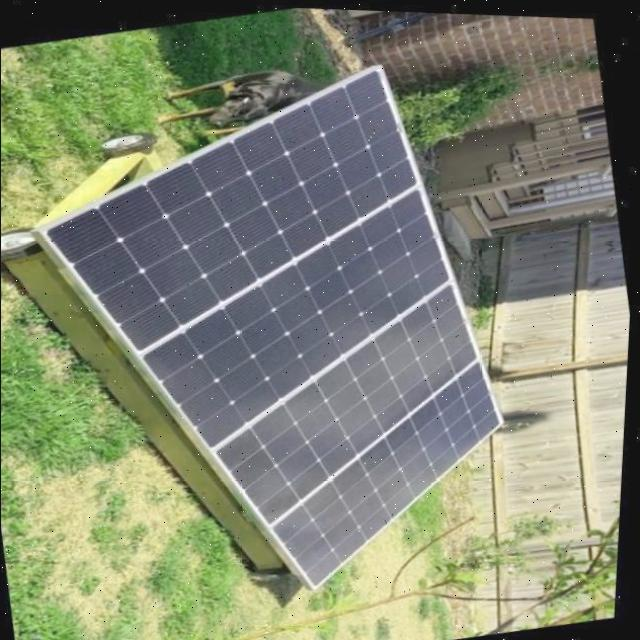Normal Solar Panel: (1, 40, 544, 632)
